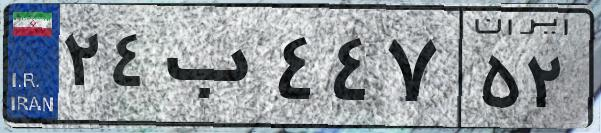2: (57, 26, 110, 100), (525, 38, 570, 115)
4: (270, 28, 330, 110), (330, 28, 385, 110), (110, 28, 158, 98)
5: (475, 38, 525, 113)
7: (385, 28, 445, 110)
ب: (158, 20, 270, 120)
